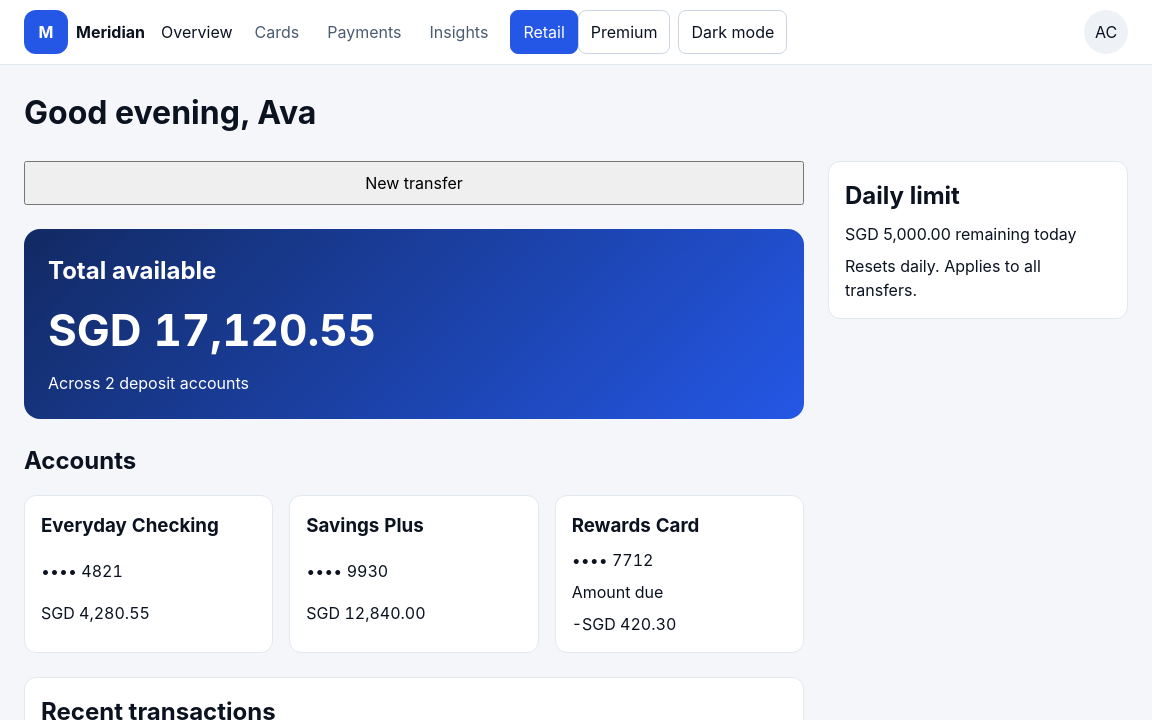
dashboard › shows transfer success and refreshes the dashboard
Later steps or results of the test are not shown.
Click the button "New transfer" at (414, 183), box [24,161,804,205]
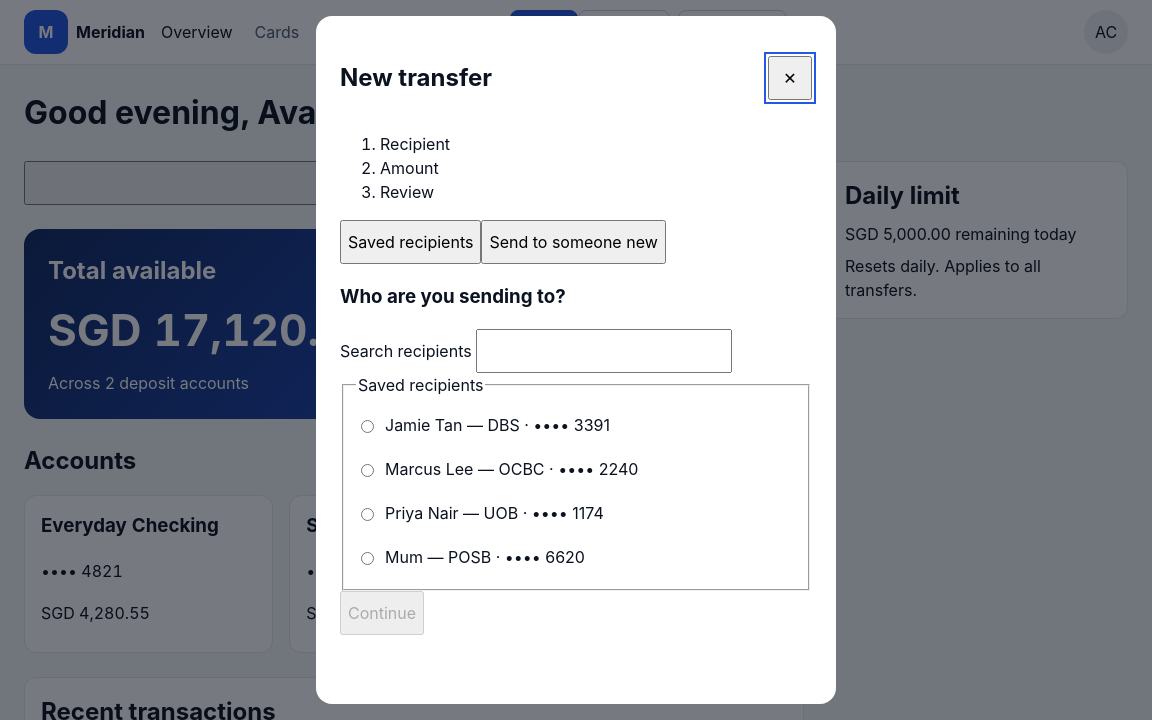
Click the radio button labelled "Jamie Tan — DBS · •••• 3391" at (368, 426), box [361,420,374,433]
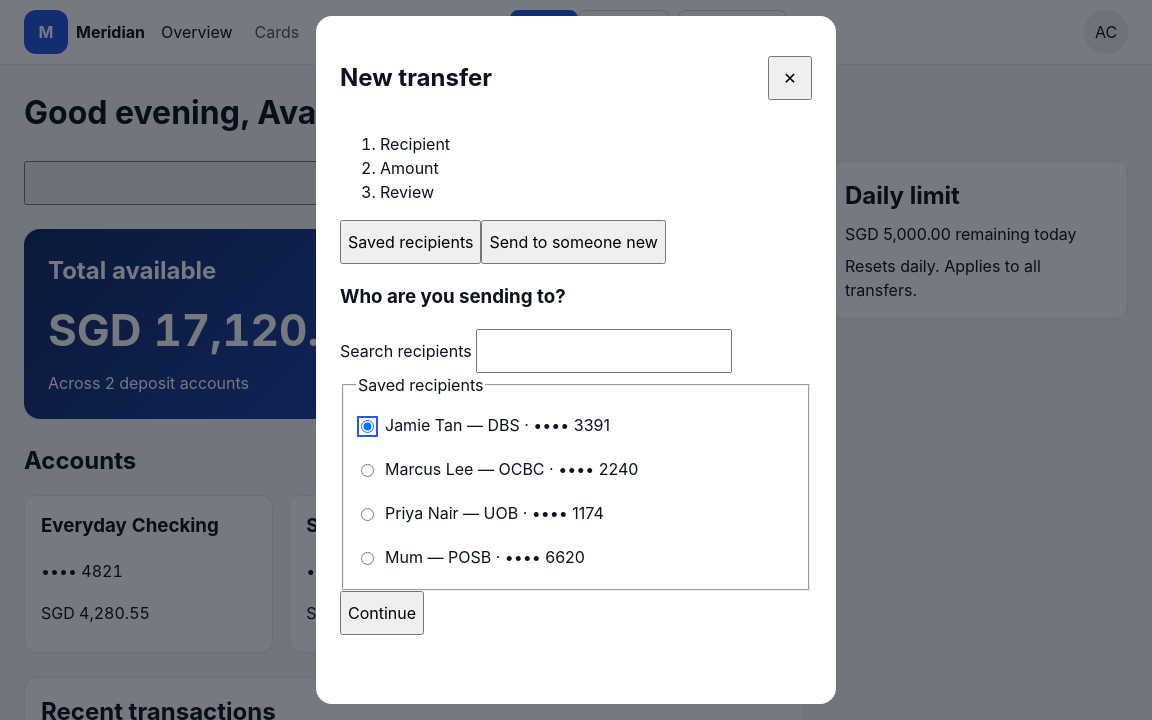
Click the button "Continue" at (382, 613), box [340,591,424,635]
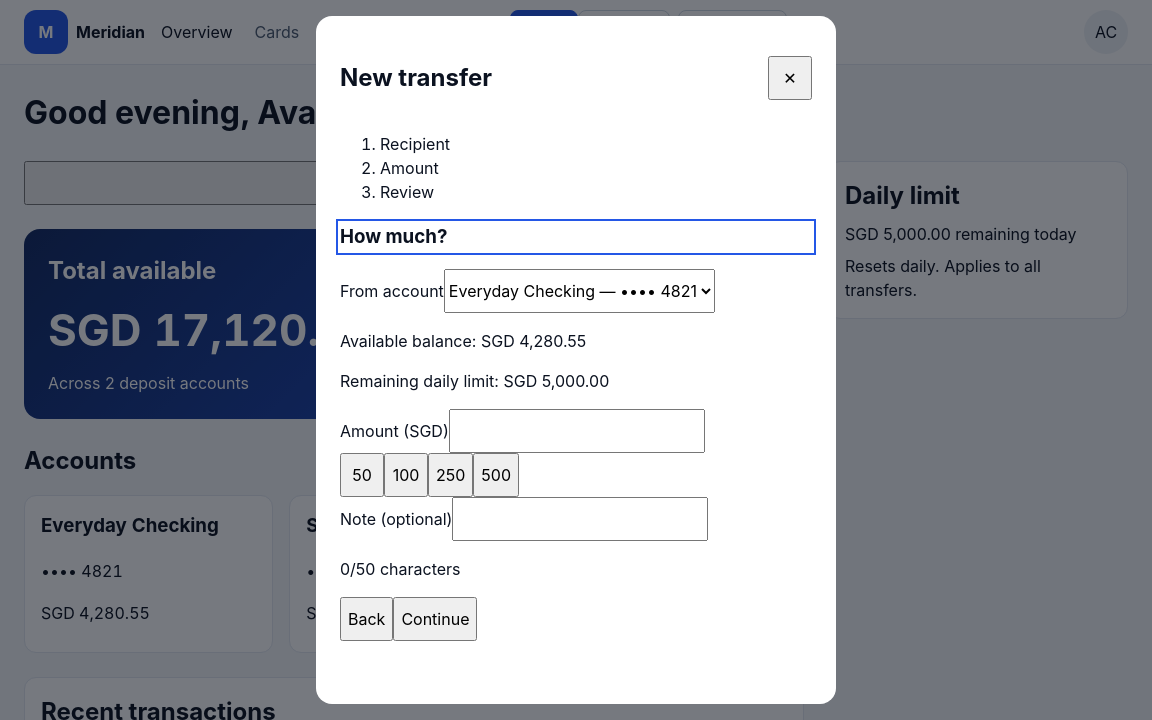
Click the button "50" at (362, 475), box [340,453,384,497]
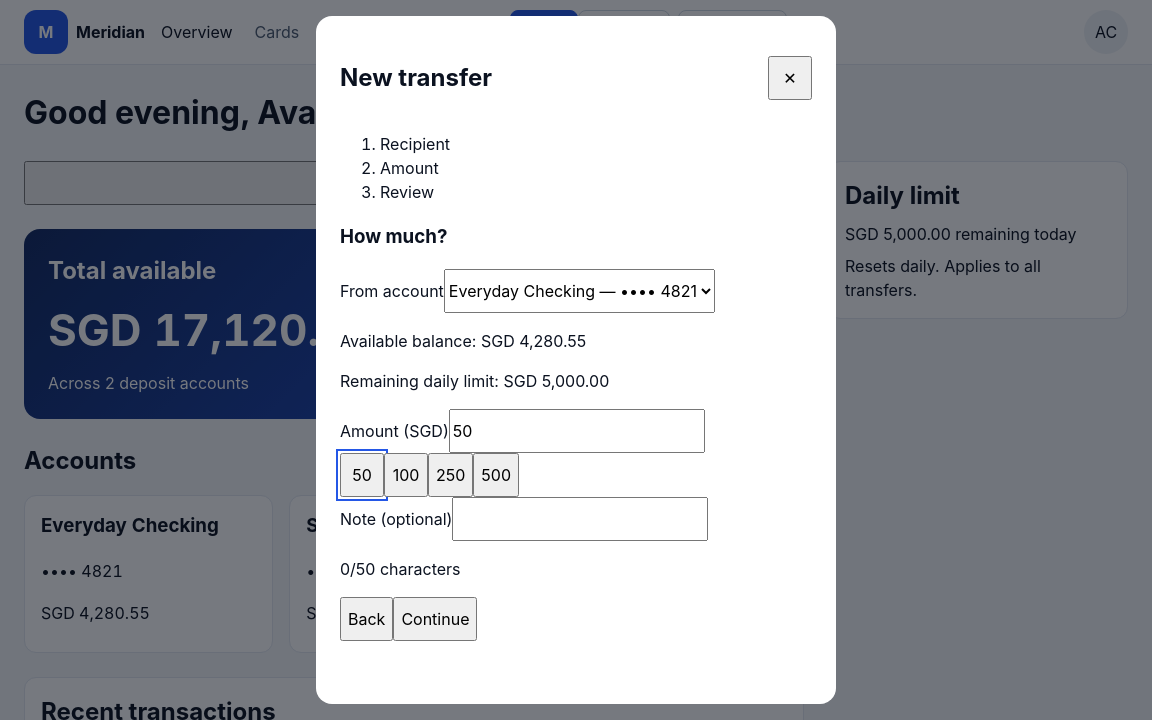
Click the button "Continue" at (435, 619), box [393,597,478,641]
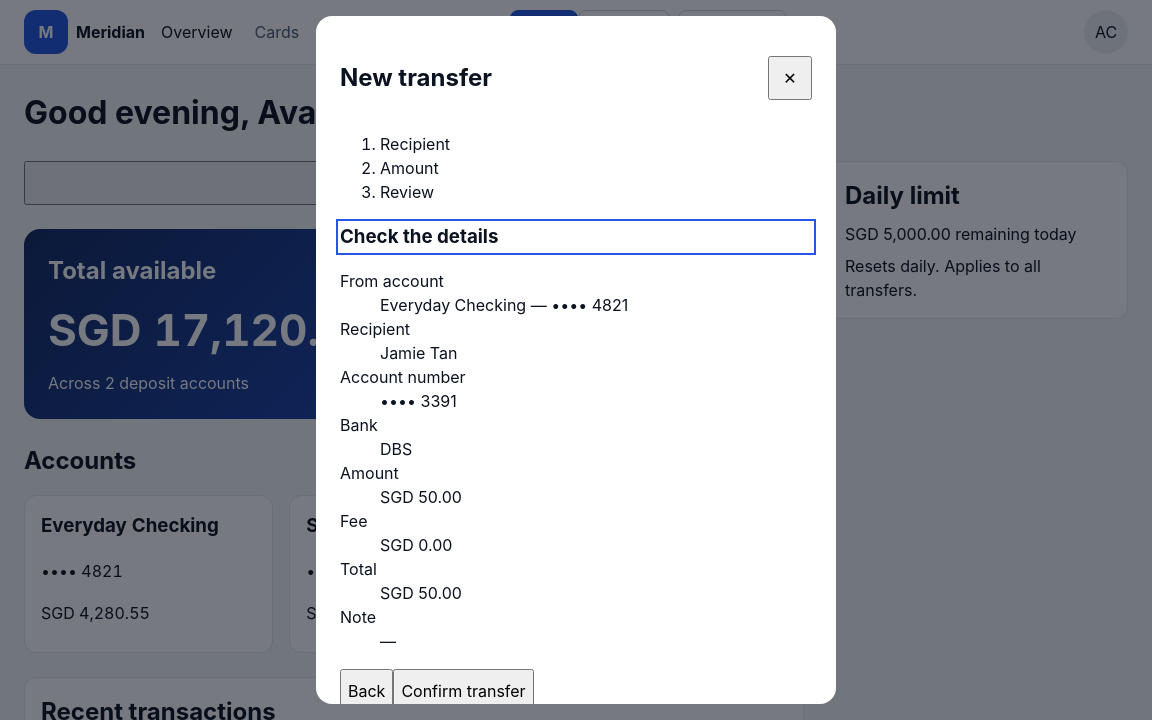
Click the button "Confirm transfer" at (464, 691), box [393,669,534,713]
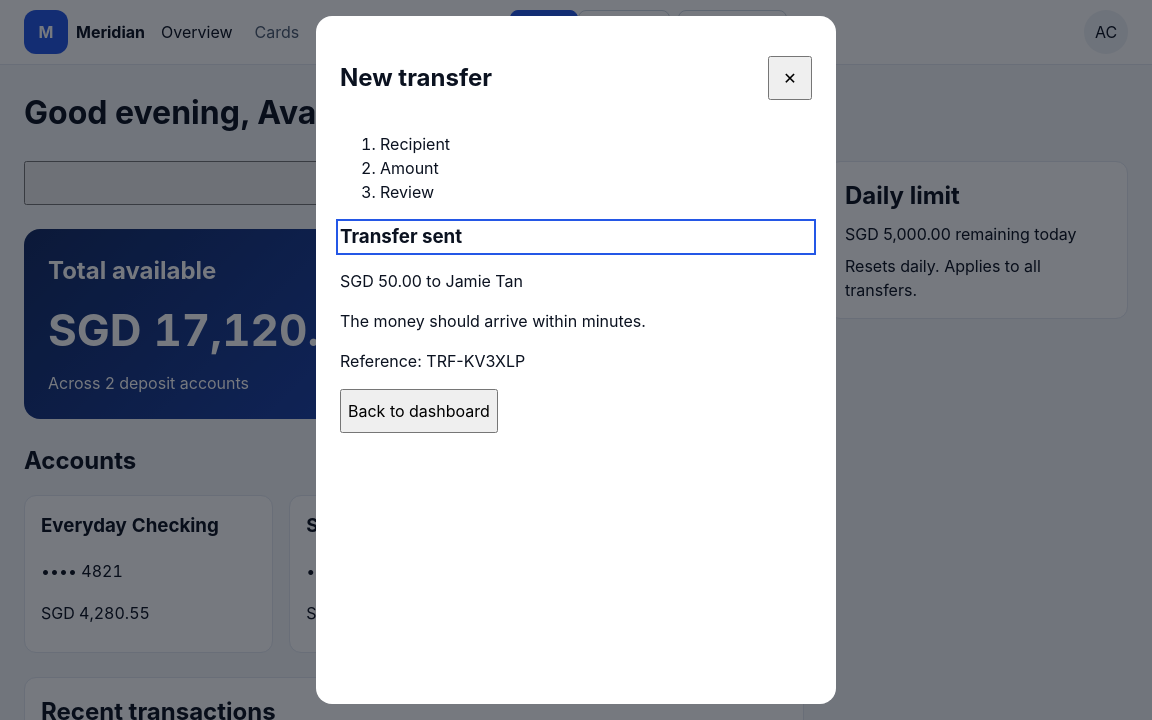
Check: the heading "Transfer sent" is shown, box [340,224,462,248]
Check: the text "Reference: TRF-" is shown, box [340,351,525,371]
